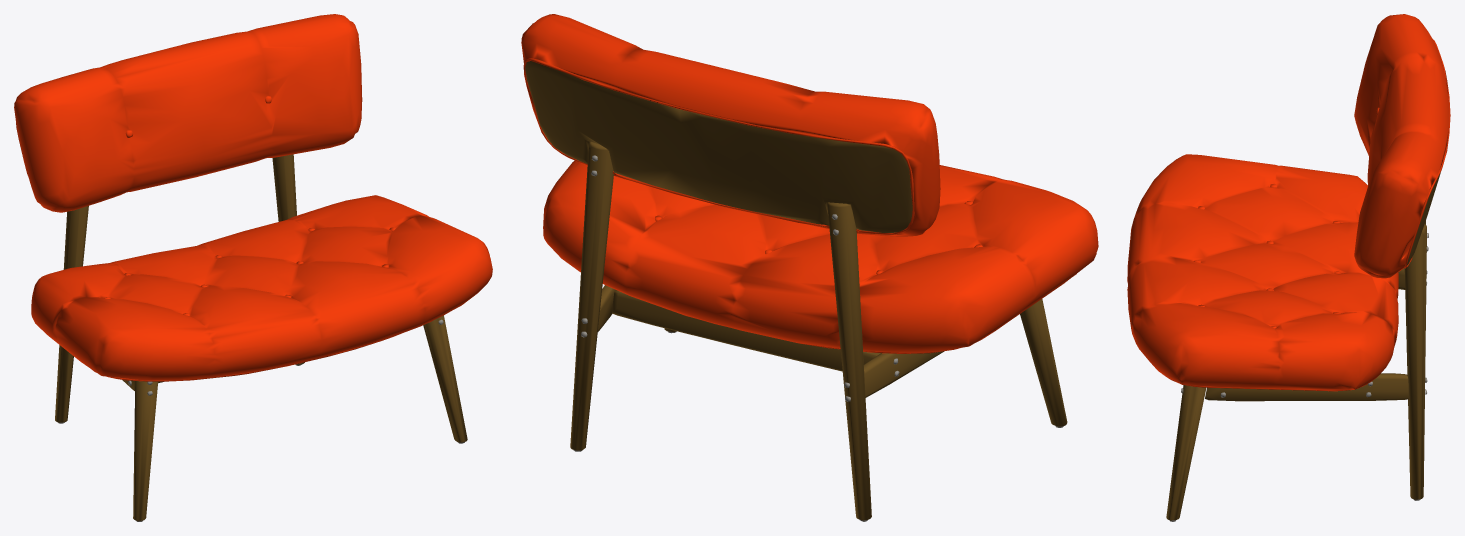
The model's file is sheenchair.glb.
The picture shows the model from 3 angles, left to right: view 1: azimuth 30°, elevation 25°; view 2: azimuth 150°, elevation 25°; view 3: azimuth 270°, elevation 25°; orthographic projection. The views are drawn at different scales.
Visible parts, largest first — view 1: SheenChair_fabric, SheenChair_wood; view 2: SheenChair_fabric, SheenChair_wood; view 3: SheenChair_fabric, SheenChair_wood.
Boxes of the visible parts, bbox=[...] form: SheenChair_fabric: bbox=[14, 14, 492, 381]; SheenChair_wood: bbox=[55, 154, 467, 521]; SheenChair_fabric: bbox=[521, 14, 1098, 353]; SheenChair_wood: bbox=[525, 61, 1067, 520]; SheenChair_fabric: bbox=[1127, 14, 1450, 391]; SheenChair_wood: bbox=[1166, 172, 1440, 520].
Size of the model in its own units: 0.8262 by 0.686 by 0.5702.
